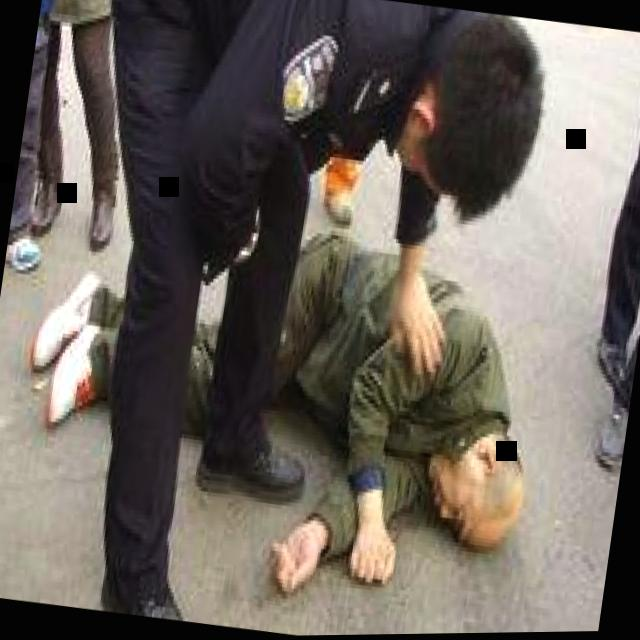Fall-Detected: (0, 143, 586, 640)
